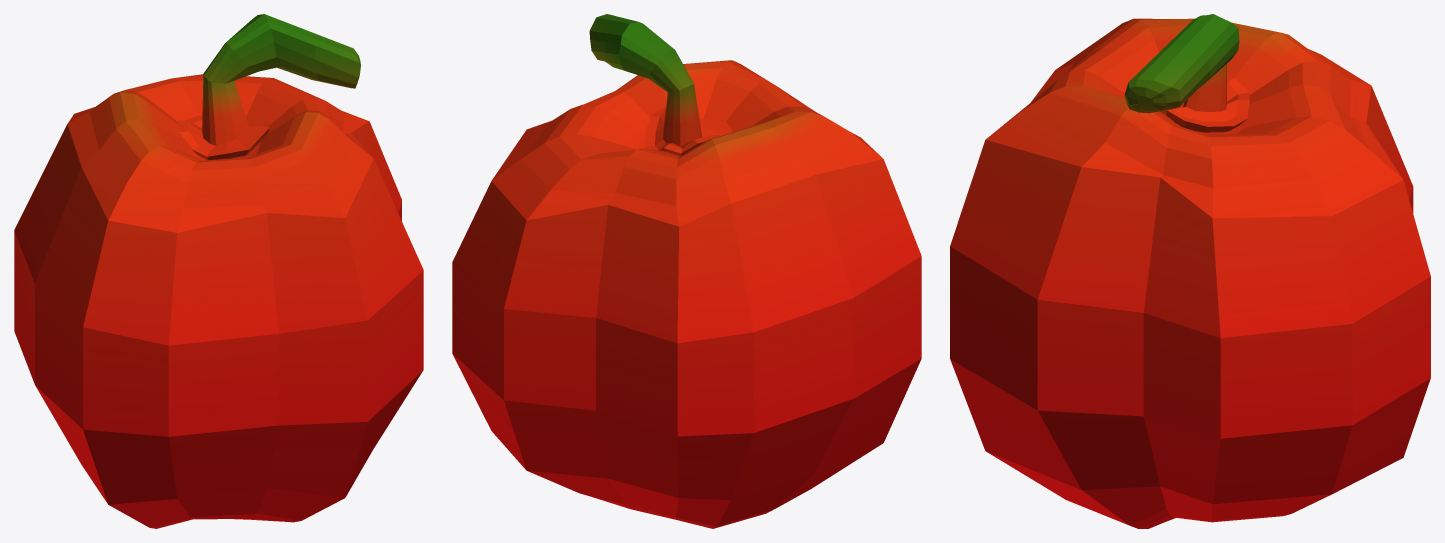
The model's file is Bell pepper1.fbx.
3 renders of one model, left to right at view 1: azimuth 30°, elevation 25°; view 2: azimuth 150°, elevation 25°; view 3: azimuth 270°, elevation 25°, orthographic. The views are drawn at different scales.
Visible parts, largest first — view 1: Sphere; view 2: Sphere; view 3: Sphere.
Part boxes in pixels (x1=…): Sphere: x1=14, y1=14, x2=423, y2=528; Sphere: x1=452, y1=14, x2=921, y2=528; Sphere: x1=950, y1=14, x2=1430, y2=528.
Size of the model in its own units: 0.0726 by 0.0851 by 0.0721.
Materials: 1 (1 with a texture image).
